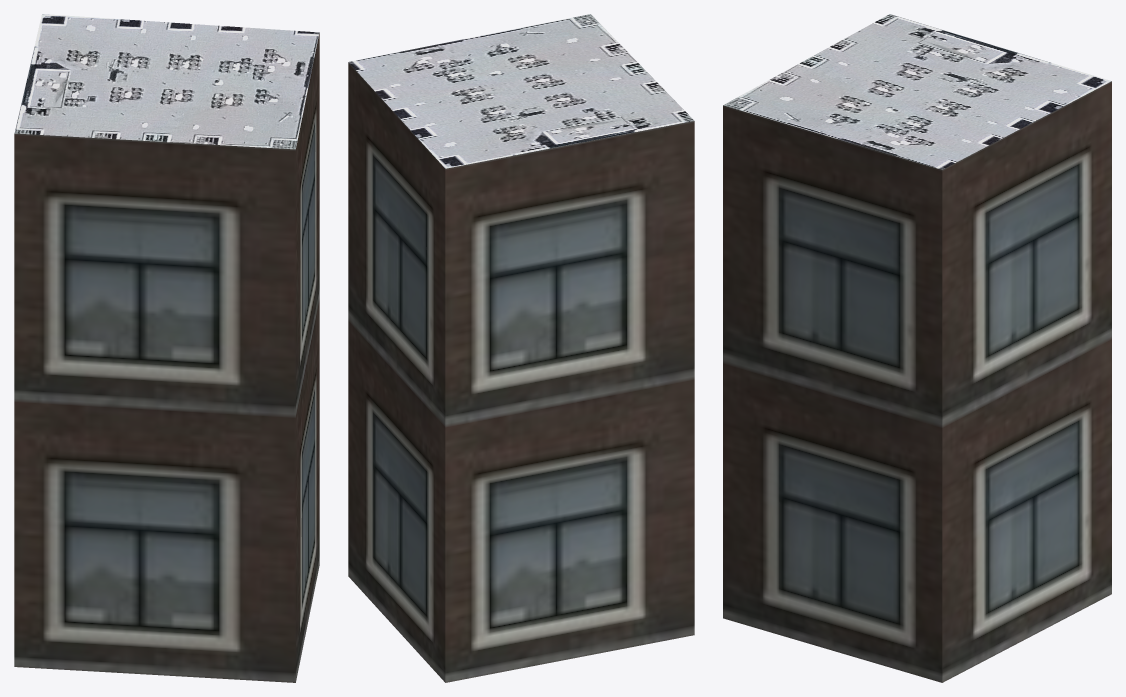
The model's file is ResTex__4396.fbx.
3 views of the same model, side by side, from view 1: azimuth 30°, elevation 25°; view 2: azimuth 150°, elevation 25°; view 3: azimuth 270°, elevation 25° (orthographic). The views are drawn at different scales.
Visible parts, largest first — view 1: CityEngineMaterial_16_m, CityEngineMaterial_15_m; view 2: CityEngineMaterial_16_m, CityEngineMaterial_15_m; view 3: CityEngineMaterial_16_m, CityEngineMaterial_15_m.
Boxes of the visible parts, x1,y1,x2,y2 form: CityEngineMaterial_16_m: [14, 32, 319, 682]; CityEngineMaterial_15_m: [14, 14, 319, 149]; CityEngineMaterial_16_m: [348, 62, 694, 682]; CityEngineMaterial_15_m: [348, 14, 694, 168]; CityEngineMaterial_16_m: [723, 81, 1111, 682]; CityEngineMaterial_15_m: [723, 14, 1111, 169].
Size of the model in its own units: 3.91 by 6 by 4.12.
2 materials, 2 textured.
